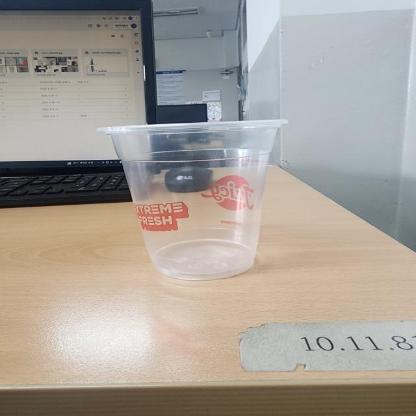Plastic Cup: (96, 120, 290, 280)
